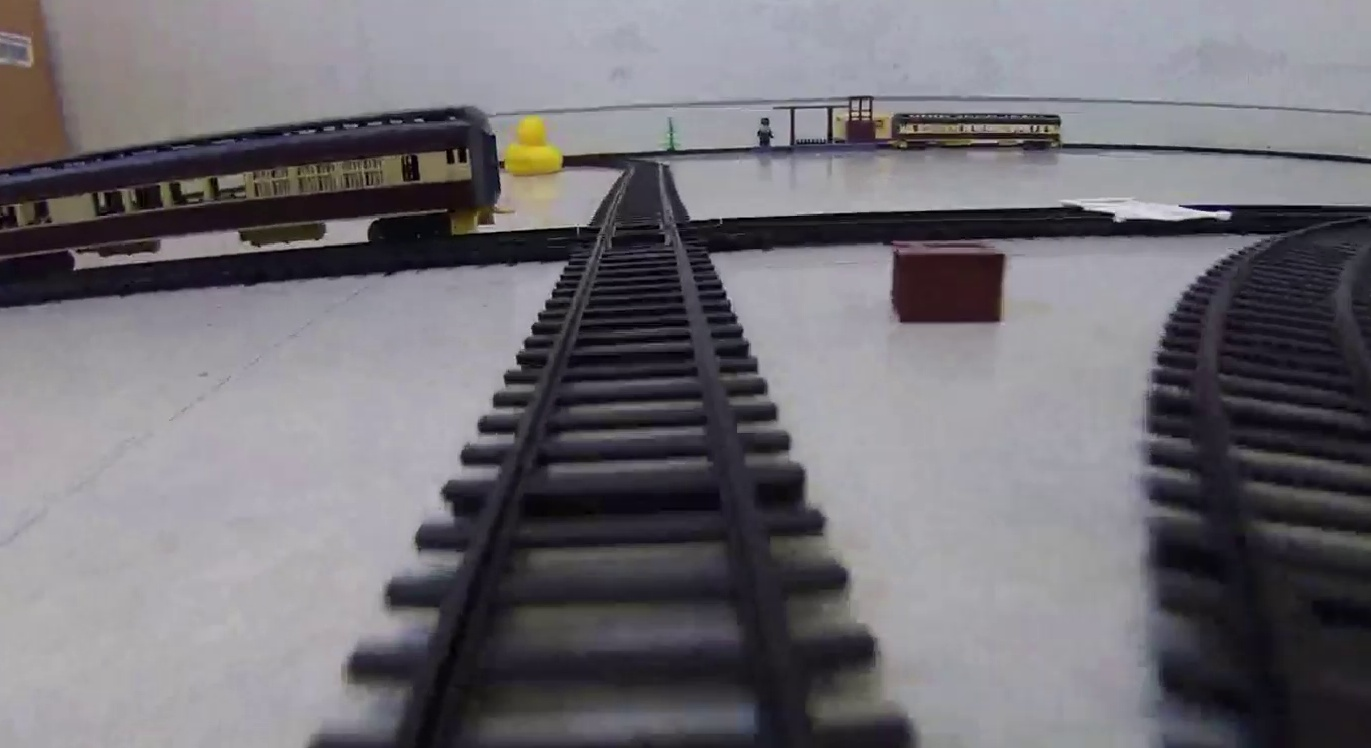box: (888, 239, 1007, 330)
